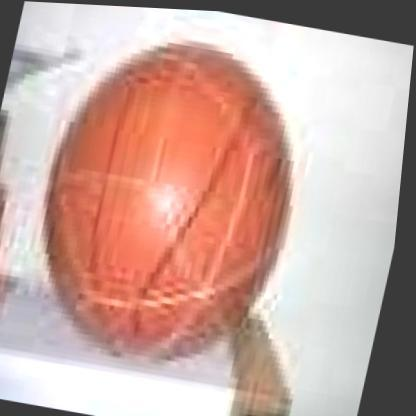basketball: (12, 12, 333, 383)
